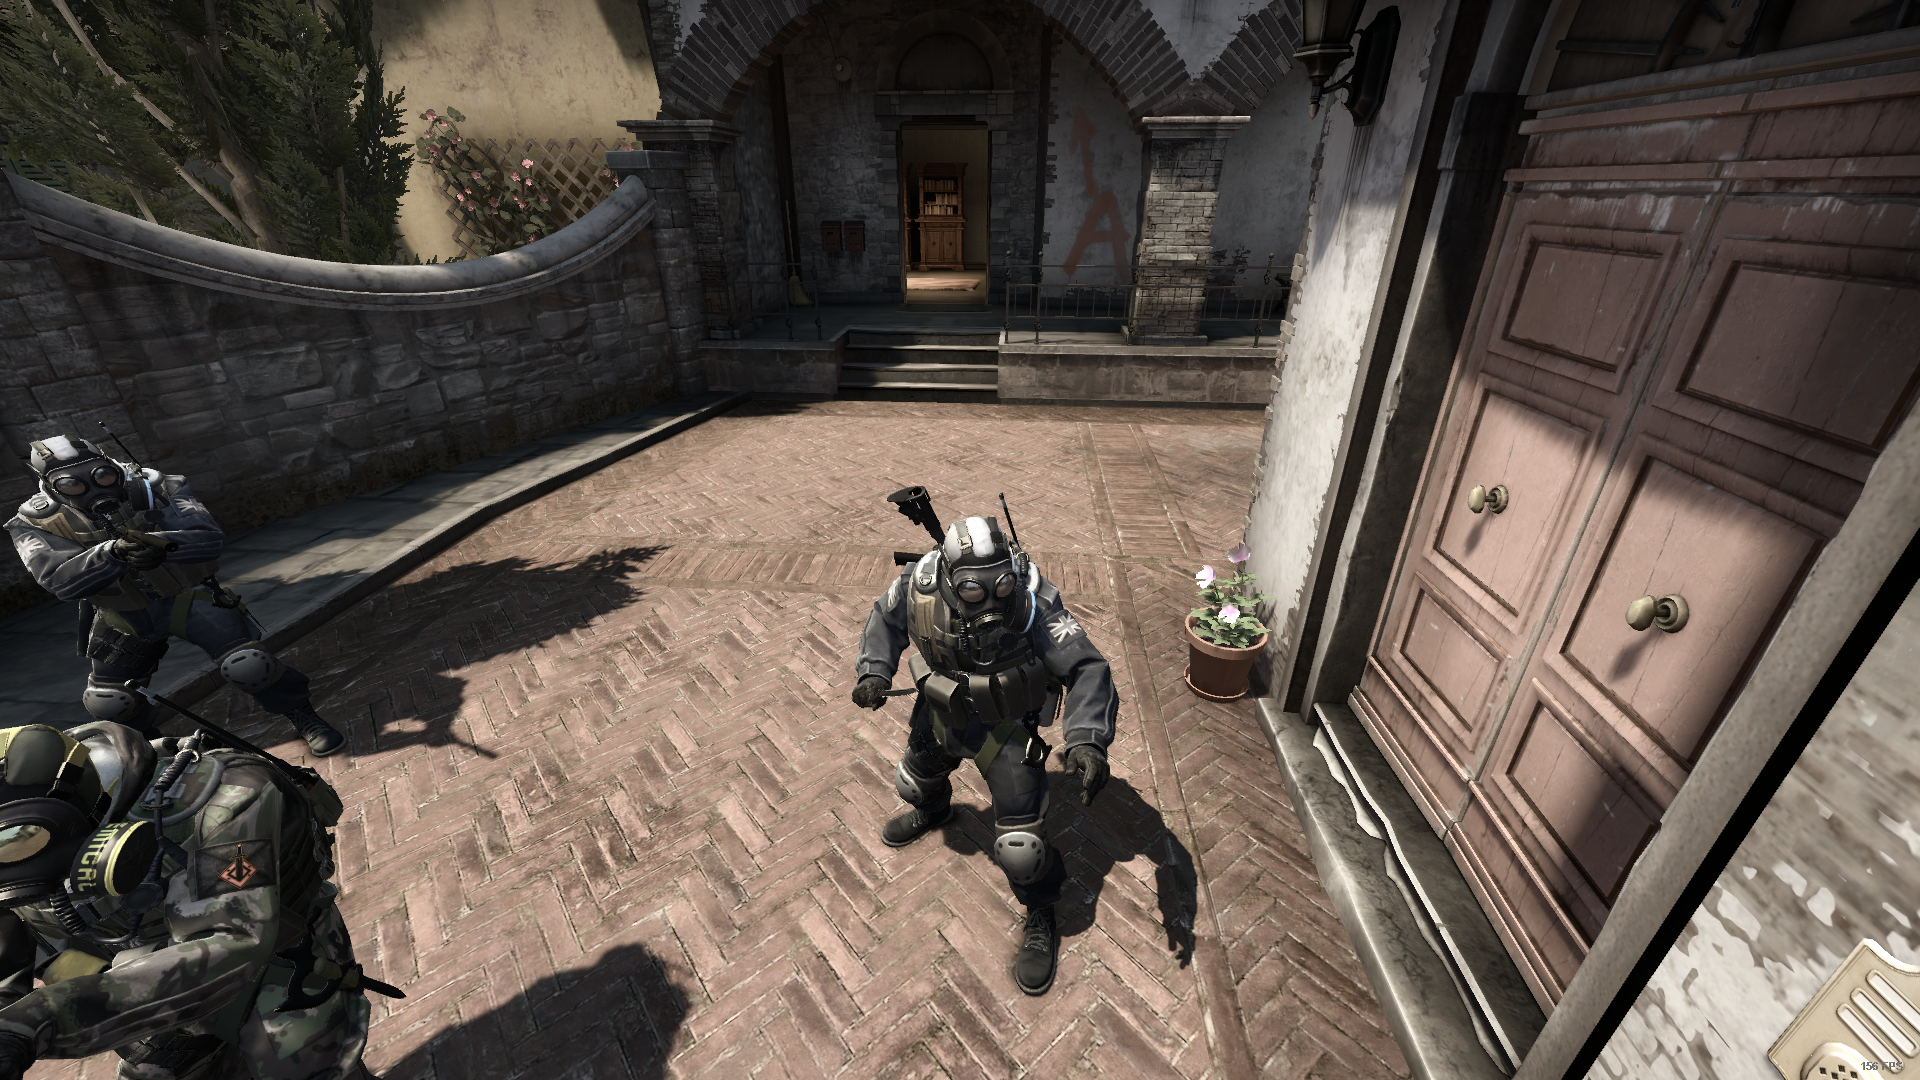ct: (847, 512, 1138, 1006), (17, 440, 364, 753)
